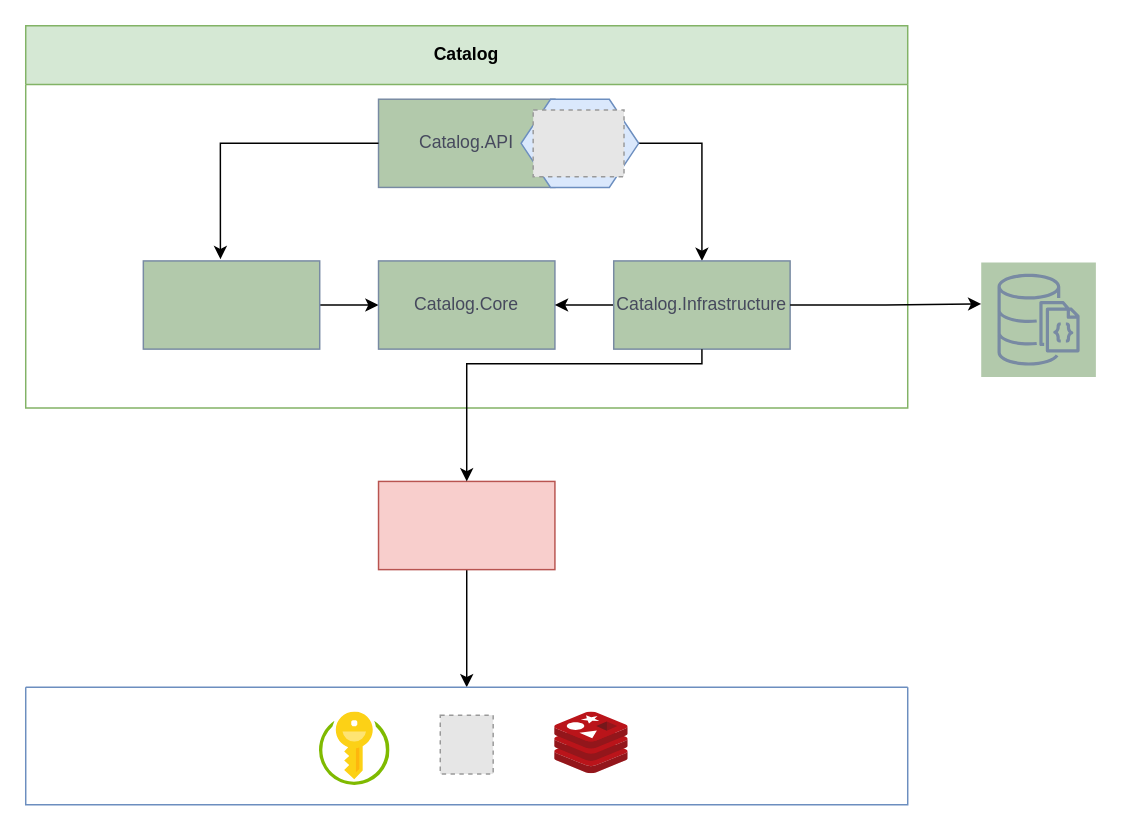
The diagram is 1122 pixels wide and 831 high, and some of its shapes have lost their labels. Grey dashed boxes stand in for pictures. Here are the shapes that lost their labels. From the top down, the centre of each, then its label:
[231,304]: Catalog.Application
[466,525]: Ecart.Core
